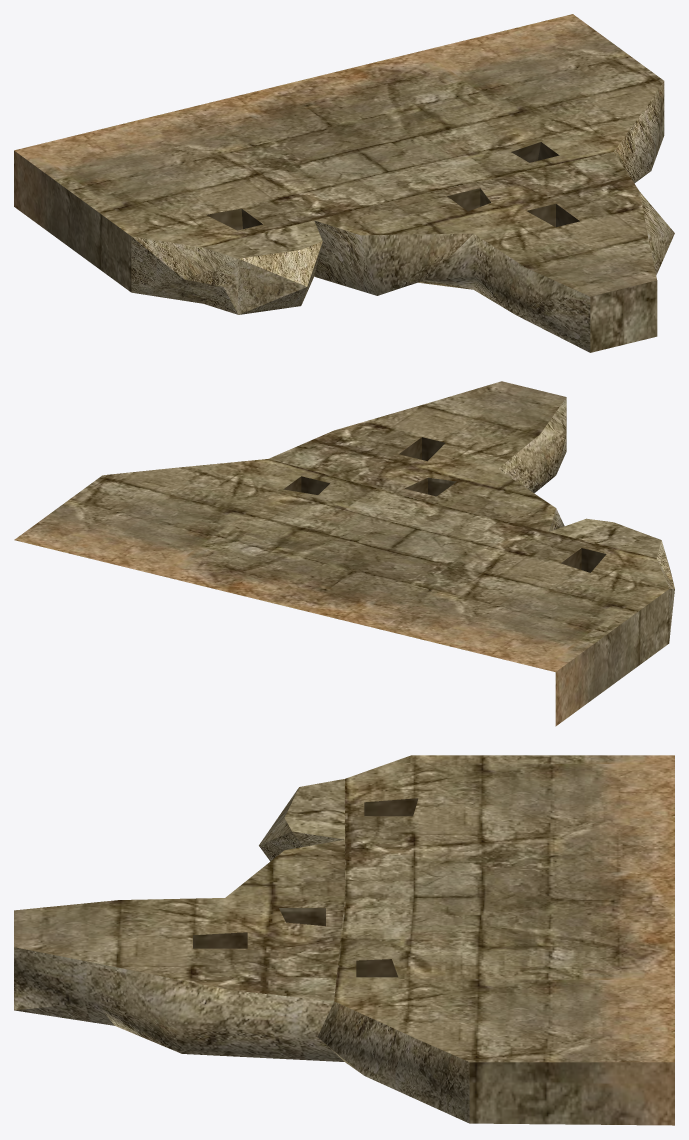
3 views of the same model, one above another, from view 1: azimuth 30°, elevation 25°; view 2: azimuth 150°, elevation 25°; view 3: azimuth 270°, elevation 25° (orthographic). The views are drawn at different scales.
Visible parts, largest first — view 1: model_Object32; view 2: model_Object32; view 3: model_Object32.
Boxes of the visible parts, x1=… form: model_Object32: x1=14, y1=14, x2=674, y2=352; model_Object32: x1=14, y1=381, x2=674, y2=726; model_Object32: x1=14, y1=755, x2=674, y2=1125.
Size of the model in its own units: 5.63 by 0.5437 by 5.13.
3 materials, 3 textured.
